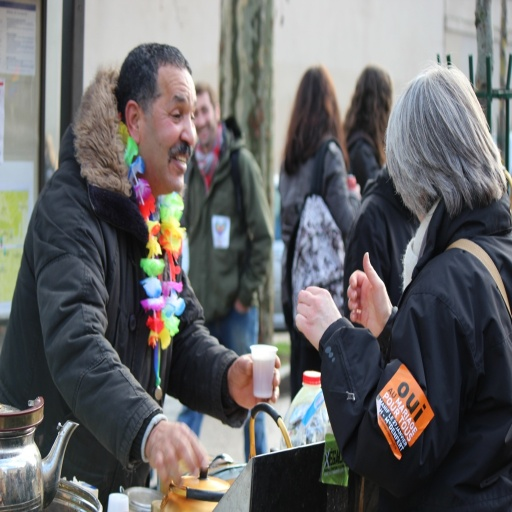hand: (146, 419, 209, 494), (291, 282, 343, 353), (351, 248, 388, 338), (227, 353, 282, 413)
